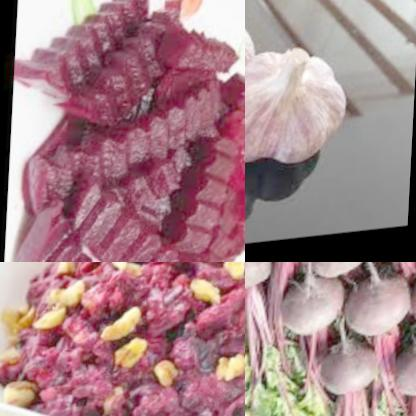beet: (4, 0, 245, 262), (41, 287, 128, 416), (123, 262, 199, 386), (281, 266, 354, 347), (319, 328, 393, 403), (348, 266, 416, 343), (185, 292, 245, 369), (189, 334, 245, 416), (120, 377, 185, 416), (53, 262, 123, 295), (300, 262, 376, 286), (397, 340, 416, 407), (245, 262, 275, 294), (22, 269, 53, 298)
garlic: (245, 48, 355, 176)
